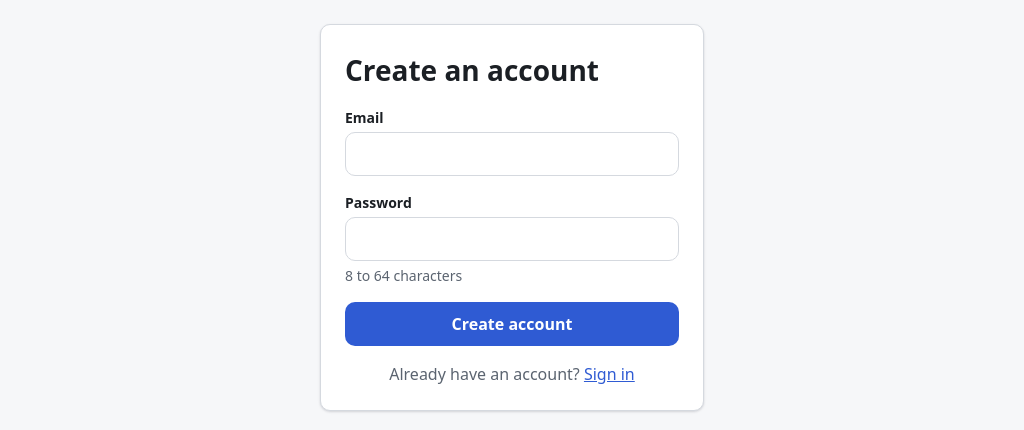
Test: SignUpPage › creates the account, signs in and lands on the empty task list
The image size is (1024, 430).
Type "lin@example.com" into the field labelled "Email" at (512, 154), box [345,132,679,176]
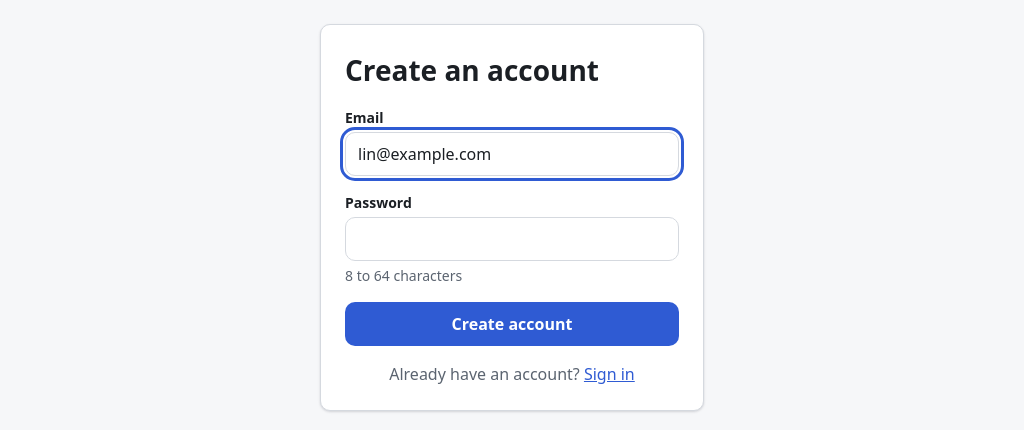
Type "a-new-pass" into the password field labelled "Password" at (512, 239), box [345,217,679,261]
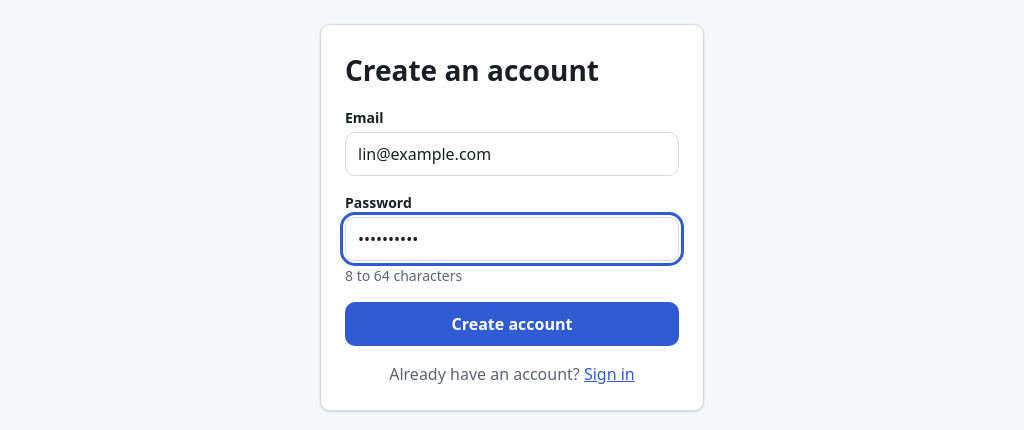
Click the button "Create account" at (512, 324), box [345,302,679,346]
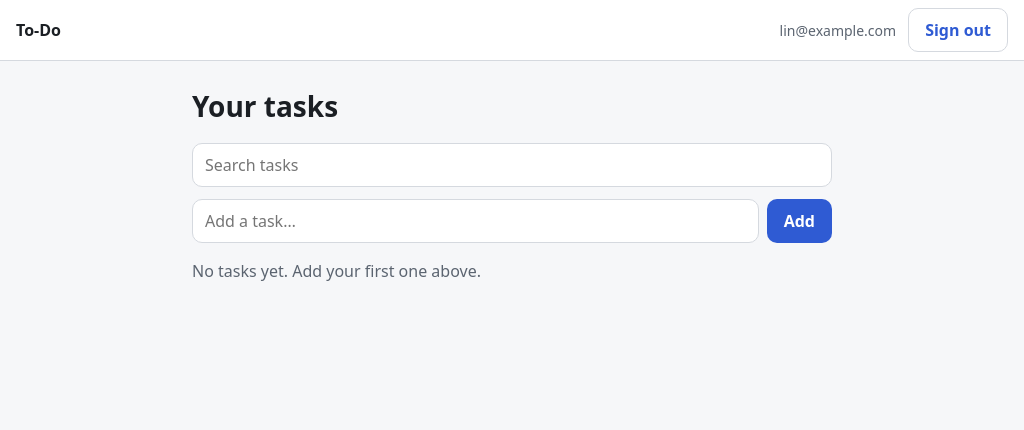
Expected: the heading "Your tasks" is shown, [192,87,338,125]
Expected: the text "No tasks yet. Add your first one above." is shown, [192,260,481,282]
Expected: the text "lin@example.com" is shown, [780,20,896,40]
